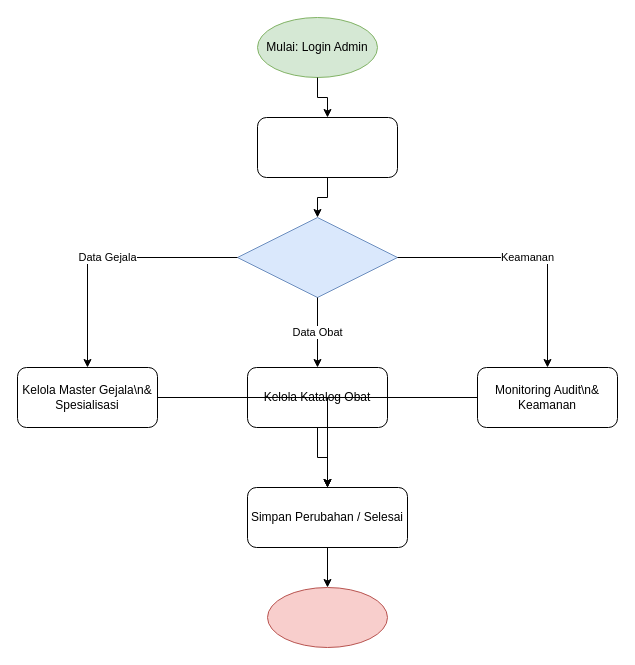
Image size: 635x665. Some labels were removed from this diagram. The shapes that lost their labels are listed below. From the top down, each one's box as (x1, y1, x2, y2) in pixels, then its label:
(256, 116, 398, 178): Masuk Dasbor Admin
(236, 216, 398, 298): Pilih Menu\nManajemen?
(266, 586, 388, 648): Selesai: Logout
